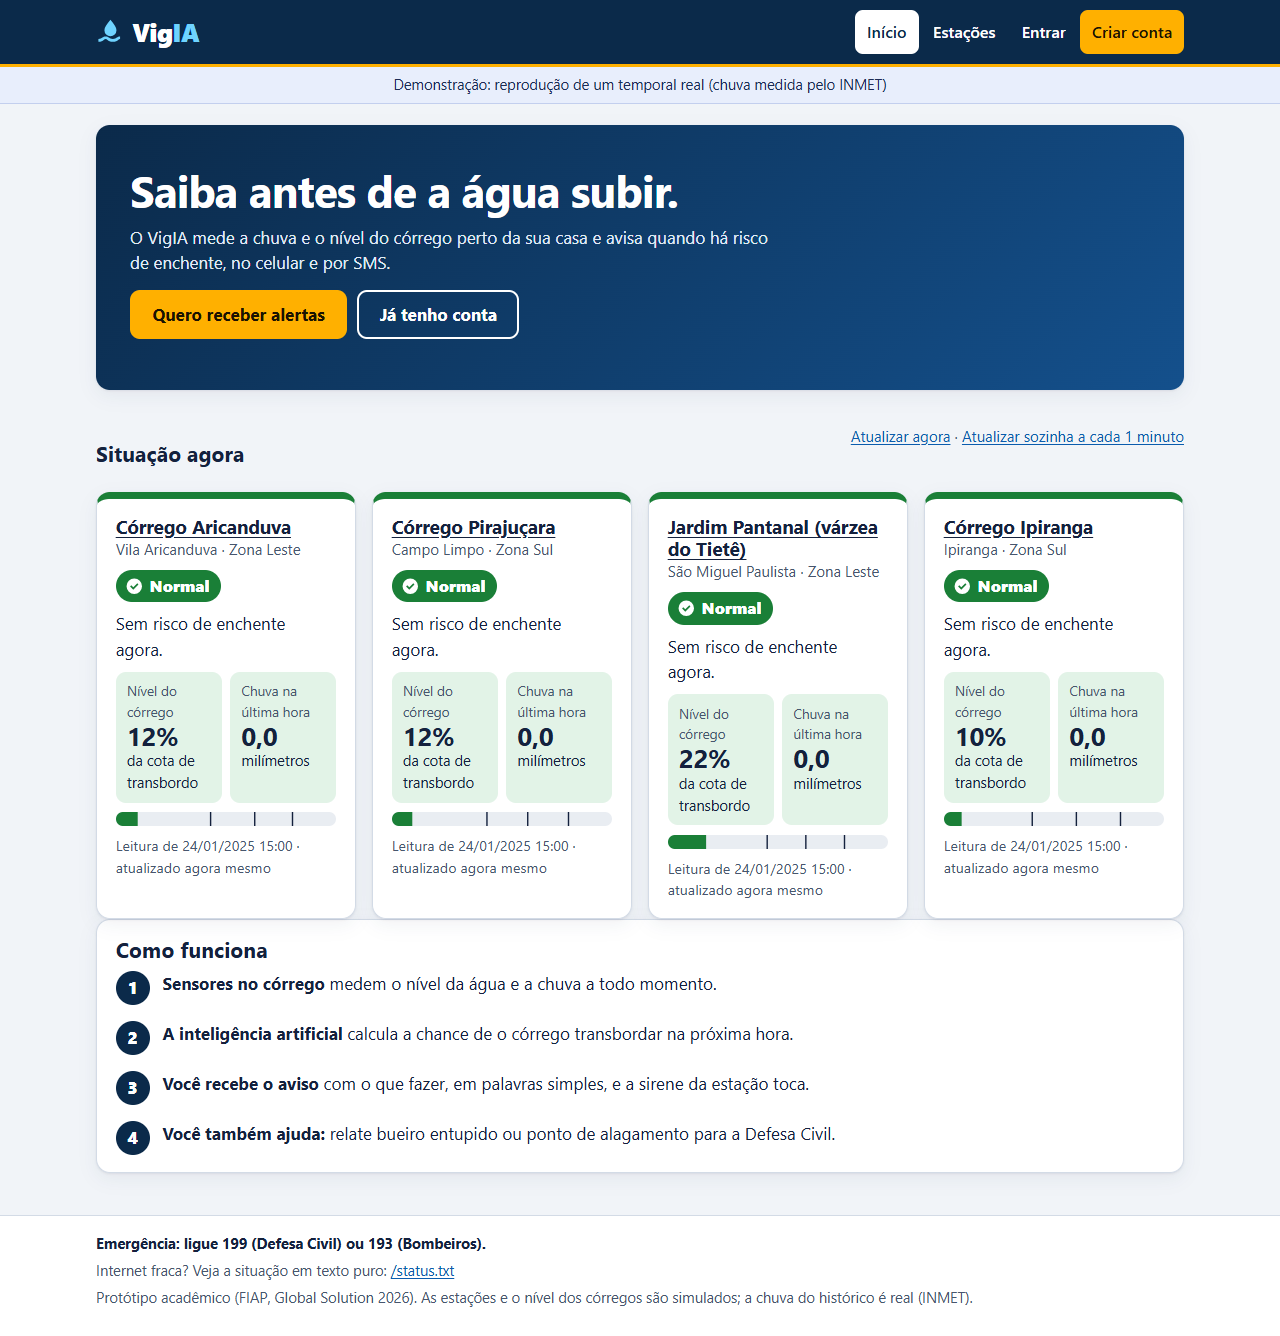

Layout of this report page (visuals, bound fields, positions):
{"tool":"powerbi","page":{"name":"Página 1","canvas":[1920,1080],"ordinal":0},"visuals":[{"type":"htmlContent443BE3AD55E043BF878BED274D3A6855","fields":{"content":["Medidas.VigIA Painel HTML"]},"box":[0,0,1920,1079.6],"z":0},{"type":"slicer","fields":{"Values":["dim_data.data"]},"box":[42.3,134.2,300.5,52.5],"z":1},{"type":"slicer","fields":{"Values":["dim_estacao.nome"]},"box":[367.7,137.1,356,52.5],"z":2}]}

Visuals, with their boxes on the page's 1920x1080 design canvas (x1, y1, x2, y2). These are canvas units, not pixel positions in the 1280x1336 screenshot, which may show the page scaled, cropped or inside an application window:
htmlContent443BE3AD55E043BF878BED274D3A6855 - Medidas.VigIA Painel HTML: left=0, top=0, right=1920, bottom=1080
slicer - dim_data.data: left=42, top=134, right=343, bottom=187
slicer - dim_estacao.nome: left=368, top=137, right=724, bottom=190
